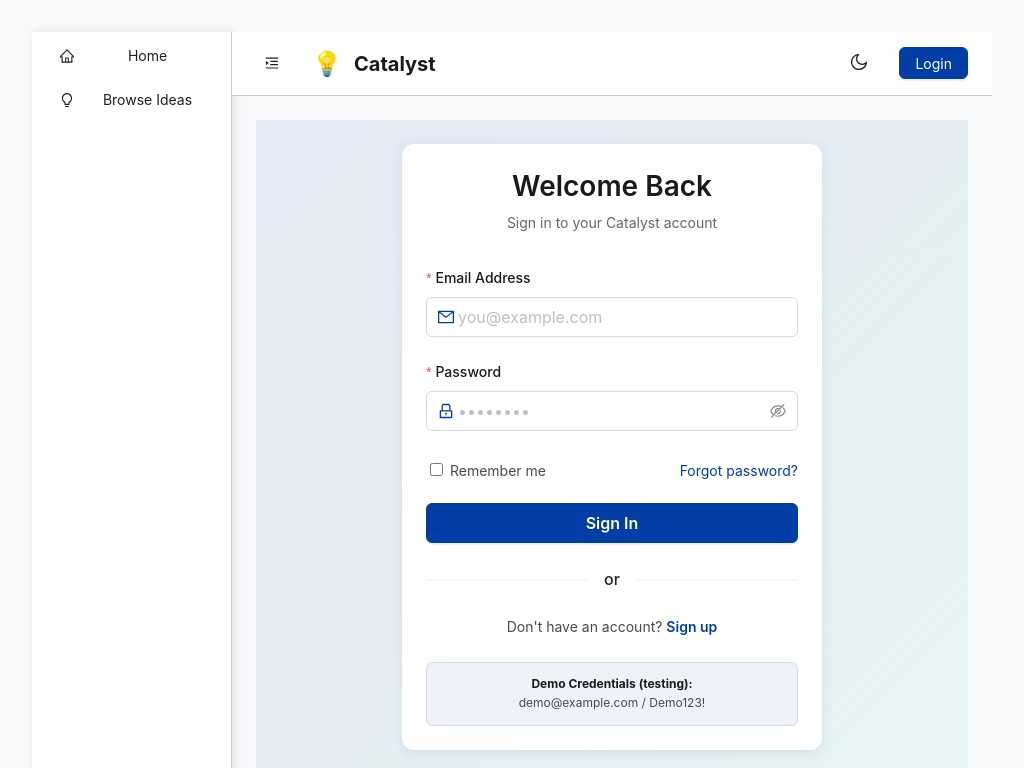
Scenario: LoginPage Component › should validate password field is required
Type "test@example.com" into the field with test id "login-email-input" at x=622, y=317, box [458,305,786,329]
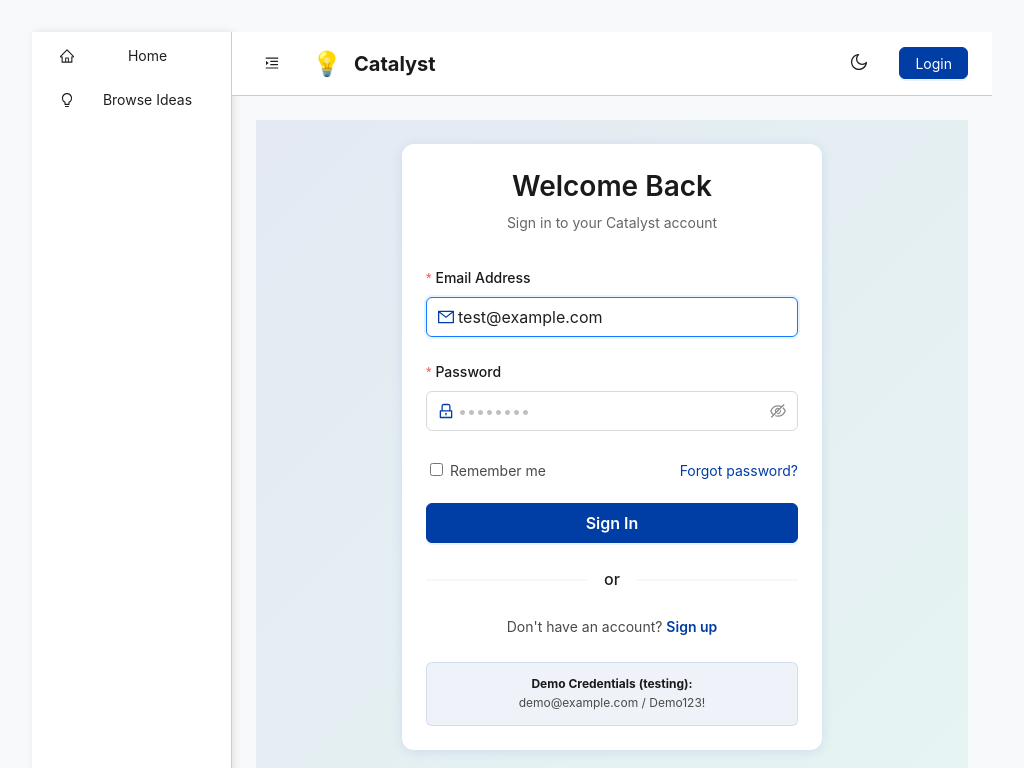
Click the button with test id "login-submit" at x=612, y=523, box [426,503,798,543]
(page scrolled)
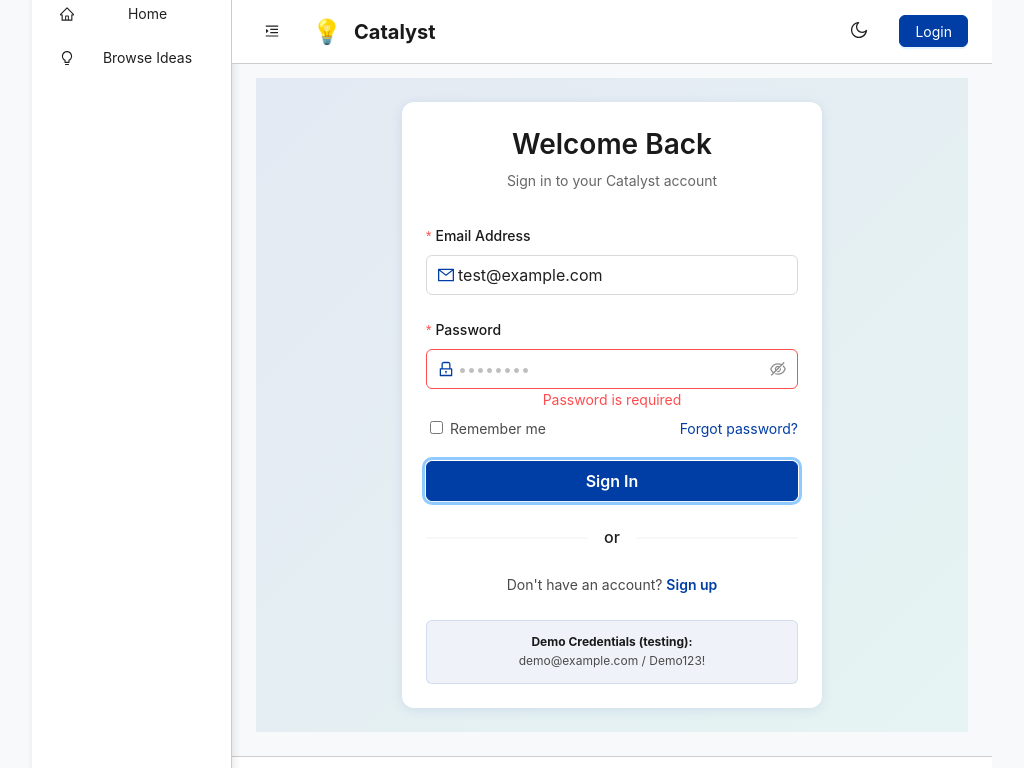
Expected: the text "Password is required" is shown, [543,391,681,408]
